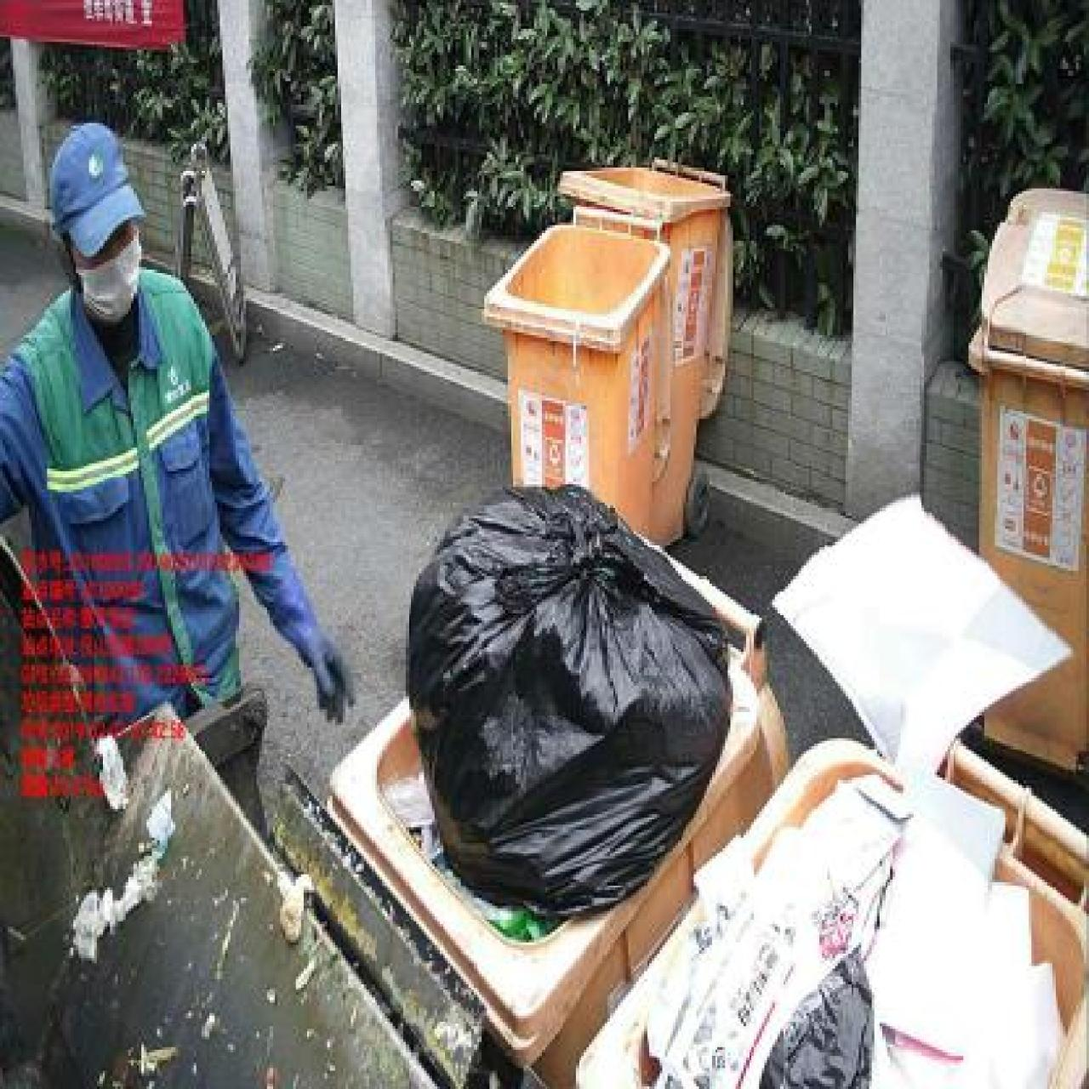bin_empty: (578, 740, 1088, 1088), (484, 220, 701, 543), (969, 188, 1088, 767), (559, 160, 733, 442)
normal_waste: (406, 486, 733, 917)
